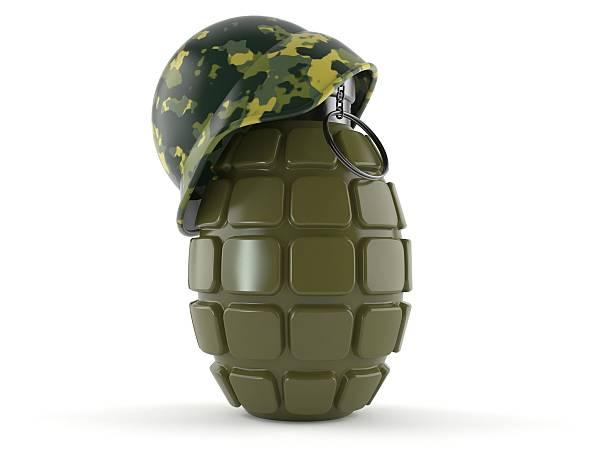e1: (186, 74, 409, 420)
